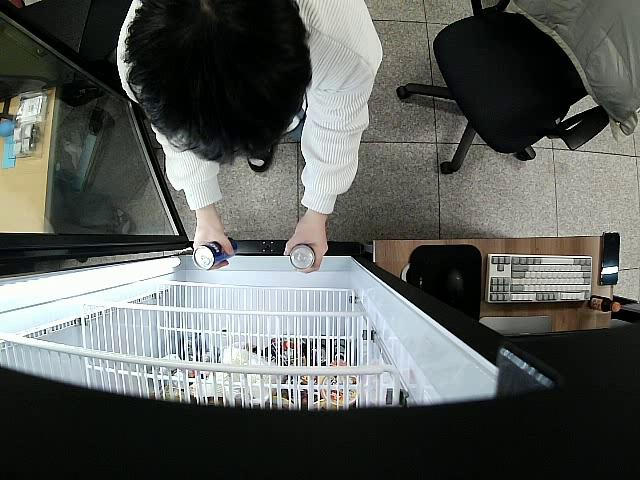00_hand: (284, 214, 329, 274), (192, 211, 234, 270)
16_hot6: (192, 236, 239, 269), (288, 244, 316, 273)
